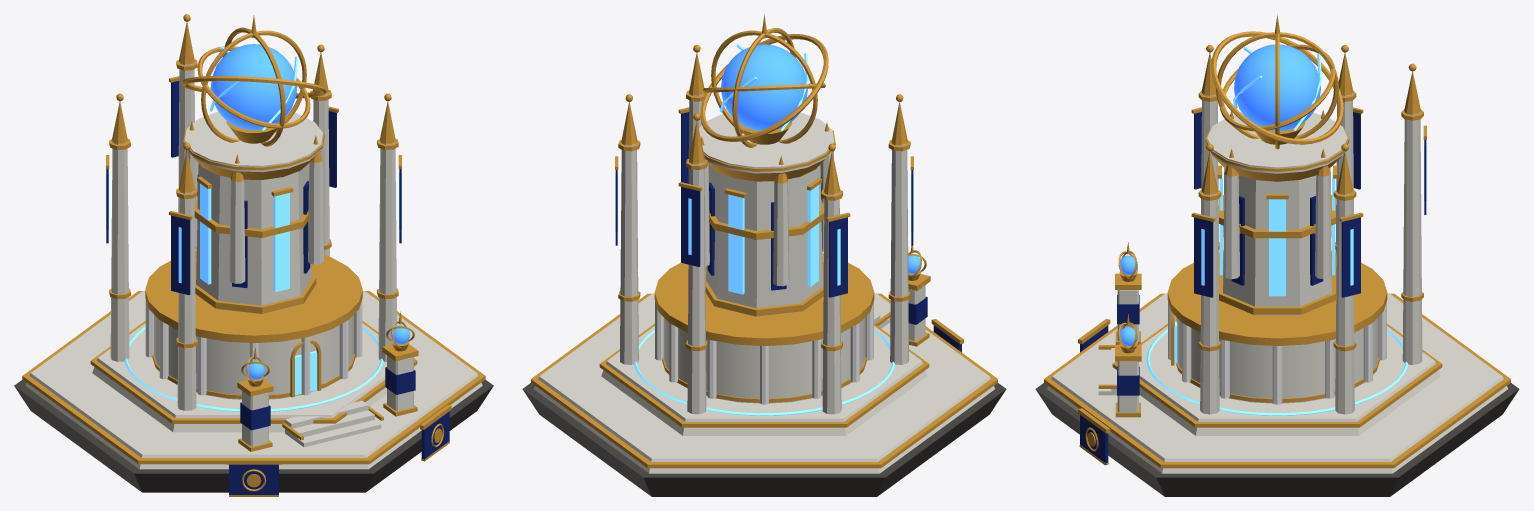
The model's file is zeus_ability_oracle_spire.glb.
3 views of the same model, side by side, from view 1: azimuth 30°, elevation 25°; view 2: azimuth 150°, elevation 25°; view 3: azimuth 270°, elevation 25° (orthographic).
Visible parts, largest first — view 1: zeus_ability_oracle_spire; view 2: zeus_ability_oracle_spire; view 3: zeus_ability_oracle_spire.
Boxes of the visible parts, x1,y1,x2,y2 form: zeus_ability_oracle_spire: (14,14,493,496); zeus_ability_oracle_spire: (522,14,1006,496); zeus_ability_oracle_spire: (1035,14,1519,496).
Size of the model in its own units: 1.49 by 1.57 by 1.72.
1 material, 1 textured.
